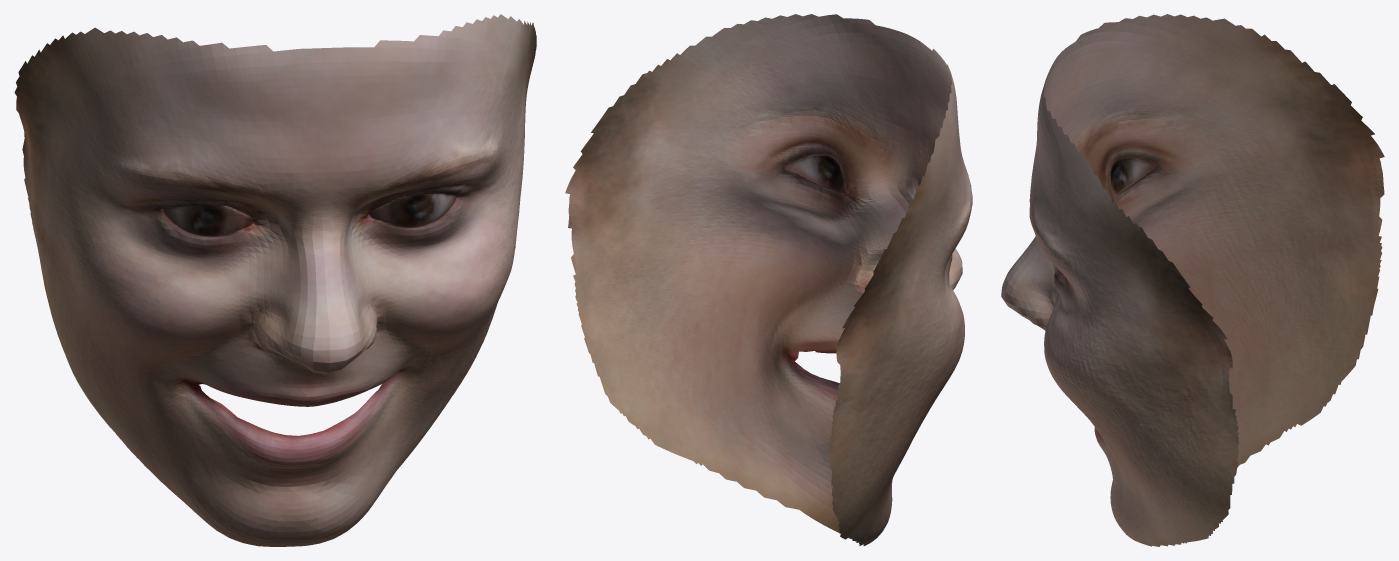
Rendered from pytorch3d.obj.
The picture shows the model from 3 angles, left to right: view 1: azimuth 30°, elevation 25°; view 2: azimuth 150°, elevation 25°; view 3: azimuth 270°, elevation 25°; orthographic projection. The views are drawn at different scales.
Bounding box in the file's own units: 1.43 × 1.7 × 1.26.
